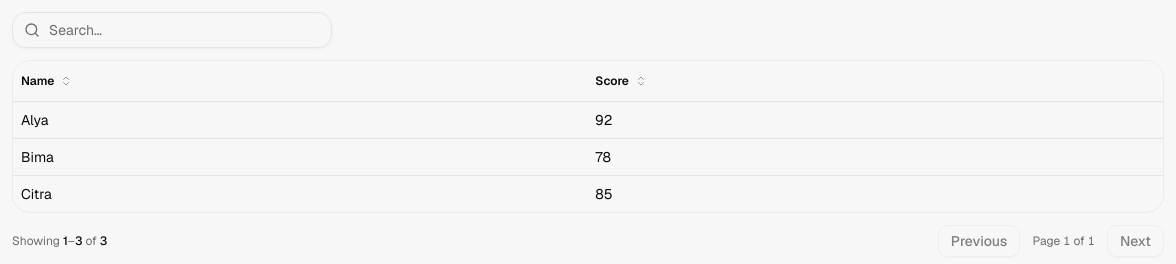
Test case: DataTable — filtering › filters rows as the user types
The image size is (1176, 264).
Type "Alya" into the field at {"x": 172, "y": 30}, box [12,12,332,48]
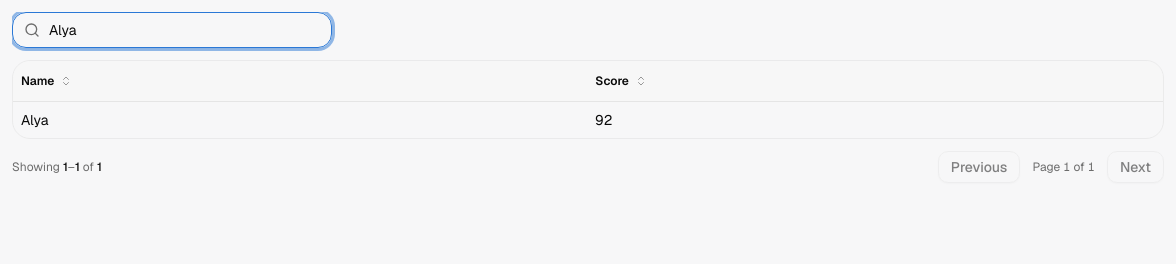
Expected: the text "Alya" is shown, [13,101,587,138]
Now the text "Bima" is gone
